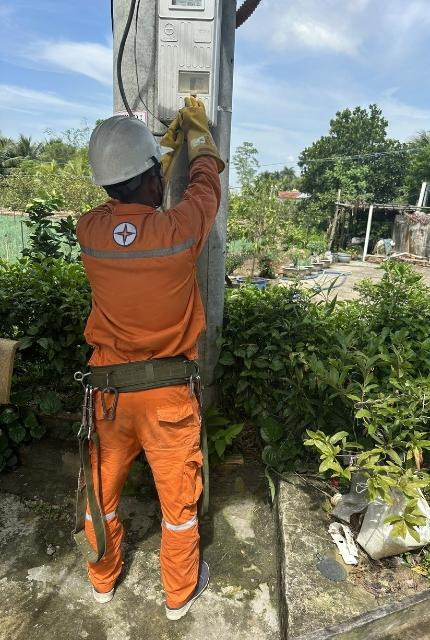gloves: (174, 93, 227, 181), (137, 99, 188, 183)
harness: (70, 346, 206, 401)
helmet: (81, 114, 169, 184)
shoes: (151, 550, 216, 624), (87, 539, 119, 610)
